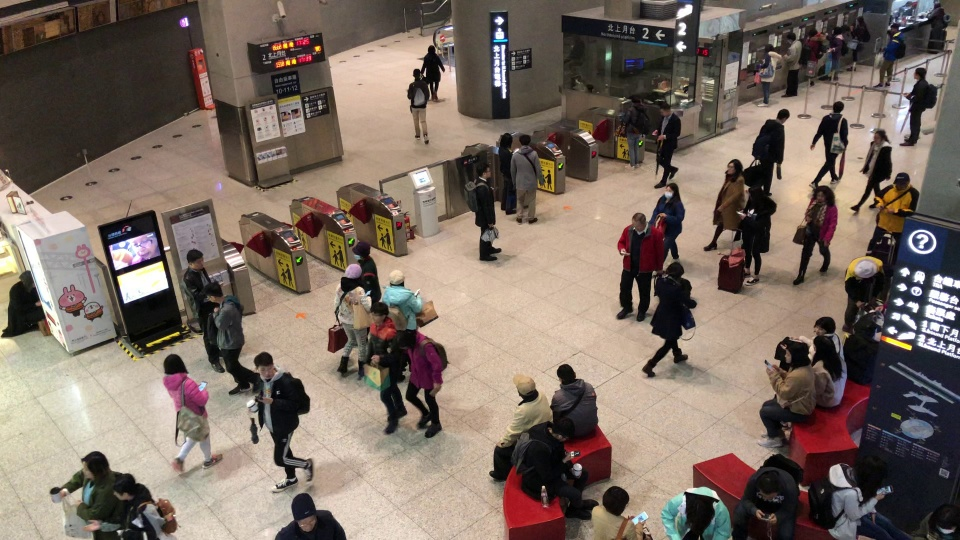person_head: (856, 454, 888, 491), (290, 492, 317, 531), (602, 485, 630, 515), (82, 450, 109, 478), (112, 472, 136, 501), (551, 417, 575, 443), (935, 507, 957, 534), (254, 352, 275, 380), (758, 471, 778, 500), (689, 500, 714, 523), (813, 336, 836, 359), (784, 344, 808, 366), (163, 353, 187, 373), (369, 301, 390, 323), (515, 375, 536, 397), (203, 282, 223, 304), (814, 316, 836, 335), (185, 248, 204, 269), (556, 363, 577, 382), (856, 260, 876, 279), (345, 263, 362, 285), (352, 241, 371, 260), (813, 185, 833, 202), (395, 330, 412, 349), (666, 262, 684, 279), (725, 157, 742, 174), (631, 212, 647, 230), (19, 269, 34, 288), (388, 269, 405, 285), (747, 185, 764, 201), (664, 183, 680, 199), (476, 162, 491, 179), (895, 172, 910, 189), (873, 129, 889, 144), (499, 132, 513, 149), (776, 108, 790, 122), (832, 99, 844, 115), (912, 67, 927, 79), (519, 133, 532, 146), (659, 103, 671, 116), (786, 32, 797, 44), (808, 28, 818, 38), (855, 15, 865, 25), (764, 43, 775, 52), (831, 26, 842, 35), (427, 44, 437, 53), (412, 68, 421, 78), (890, 23, 899, 33), (630, 96, 641, 103), (933, 1, 941, 8)
person_vbox: (246, 352, 315, 491), (510, 417, 599, 520), (808, 453, 910, 540), (162, 352, 223, 473), (487, 374, 553, 482), (755, 344, 816, 448), (201, 282, 255, 398), (639, 261, 693, 377), (732, 453, 804, 540), (394, 329, 449, 441), (58, 450, 124, 540), (180, 248, 225, 376), (614, 212, 665, 323), (369, 301, 408, 434), (791, 185, 839, 287), (873, 172, 919, 276), (110, 471, 177, 540), (731, 185, 777, 285), (333, 263, 372, 380), (381, 268, 424, 373), (702, 158, 745, 251), (659, 486, 731, 540), (463, 162, 502, 261), (841, 255, 888, 335), (549, 363, 599, 438), (849, 129, 893, 213), (808, 101, 848, 190), (273, 492, 347, 540), (590, 485, 652, 540), (648, 183, 685, 275), (509, 132, 545, 225), (898, 67, 938, 148), (751, 108, 785, 198), (0, 269, 44, 337), (788, 316, 845, 366), (809, 336, 847, 409), (616, 95, 651, 170), (653, 102, 682, 190), (871, 23, 907, 89), (780, 32, 811, 97), (351, 241, 382, 304), (405, 66, 430, 144), (910, 501, 959, 540), (755, 44, 782, 107), (803, 27, 830, 90), (419, 44, 445, 102), (498, 132, 516, 215), (846, 15, 870, 72), (828, 26, 849, 79), (924, 0, 950, 29)
